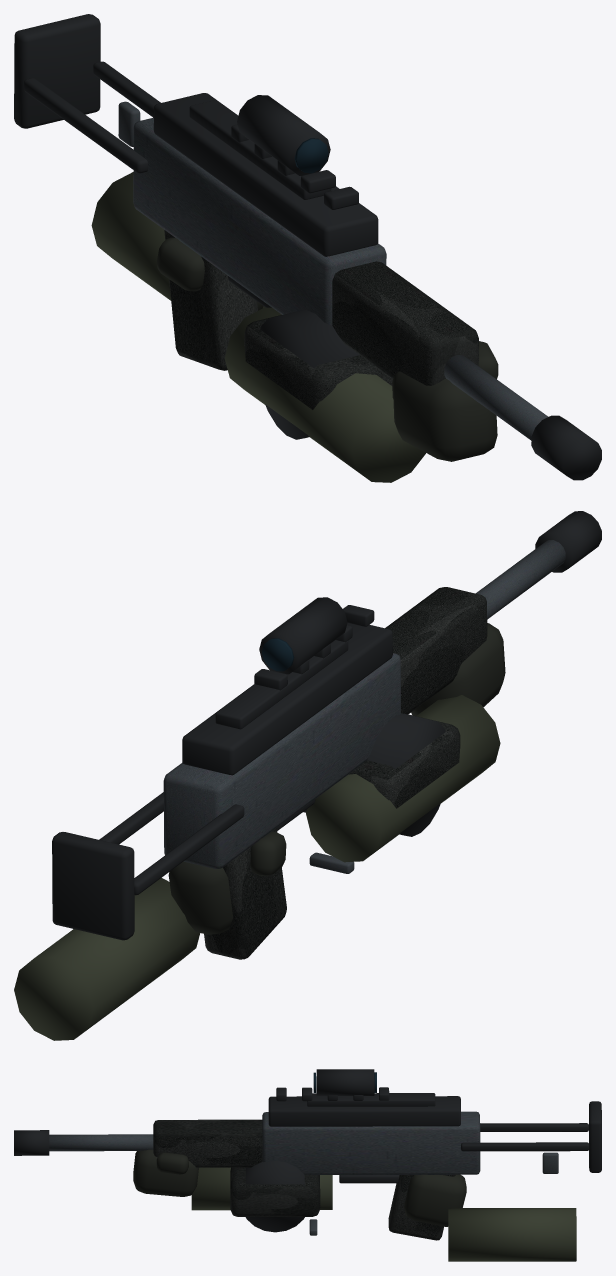
Rendered from weapon_pp19.glb.
The picture shows the model from 3 angles, top to bottom: view 1: azimuth 30°, elevation 25°; view 2: azimuth 150°, elevation 25°; view 3: azimuth 270°, elevation 25°; orthographic projection. The views are drawn at different scales.
Parts seen in each view (by area): view 1: WeaponMesh; view 2: WeaponMesh; view 3: WeaponMesh.
Boxes of the visible parts, <box> form: WeaponMesh: <box>14,14,601,482</box>; WeaponMesh: <box>14,511,601,1040</box>; WeaponMesh: <box>14,1069,601,1261</box>.
Size of the model in its own units: 0.1707 by 0.2984 by 0.9178.
Materials: 6 (2 with a texture image).
